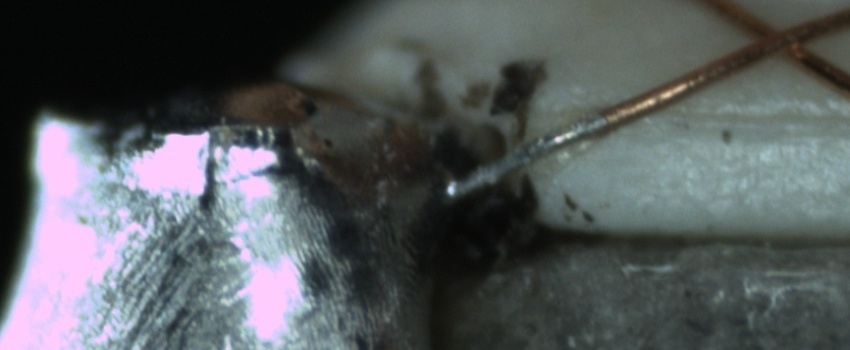CL: (731, 8, 827, 67)
DL: (625, 84, 850, 161)
TS: (434, 111, 607, 201)
